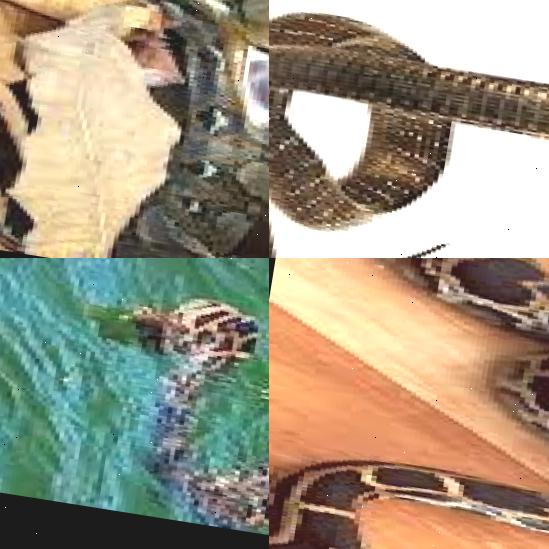1: (269, 0, 549, 258)
3: (0, 0, 269, 258)
snake: (269, 258, 549, 549), (61, 266, 269, 549)
